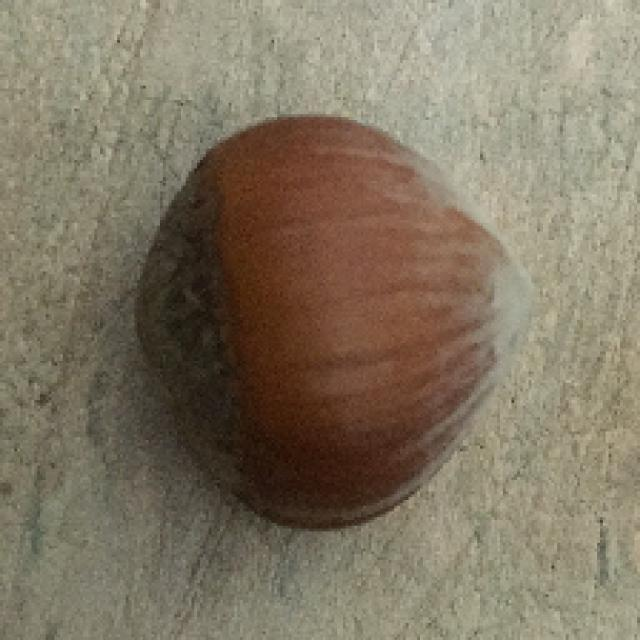qualityHazelnut: (133, 113, 530, 529)
